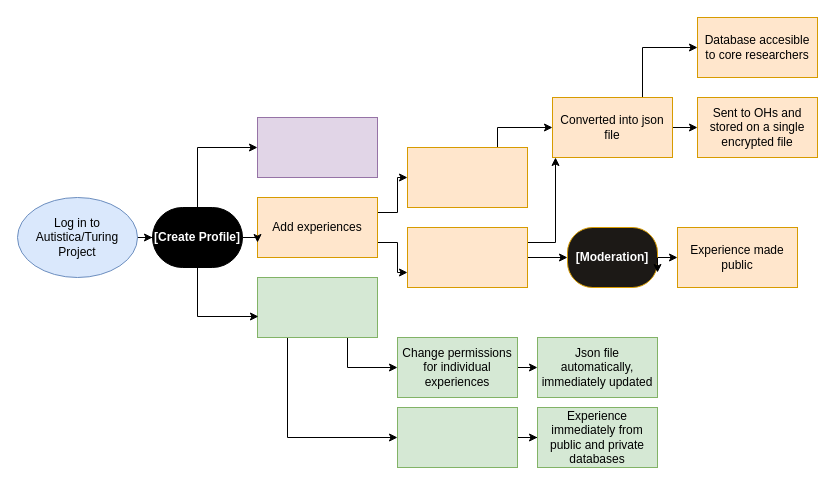
This 835x485 diagram has some shape labels left out. The shapes that lost their labels are listed below. From the top down, each one's centre as x and y in pixels, then its label:
At pixel 317 147: "View public experiences".
At pixel 467 177: "Choose research or non-research".
At pixel 467 257: "Choose viewable or non-viewable".
At pixel 317 307: "View your own record [and profile]".
At pixel 457 437: "Delete individual experiences".
